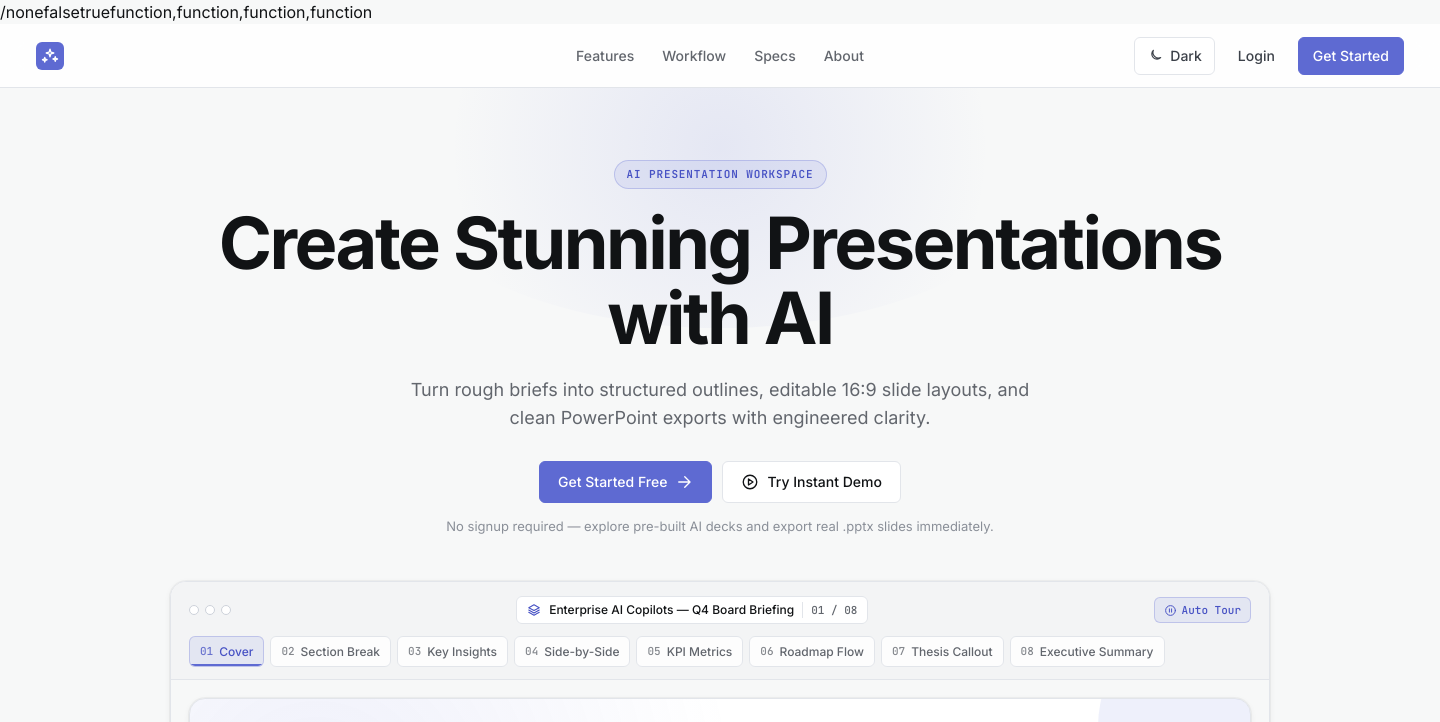
Test case: Task 3: Frontend AuthContext, Hybrid Browser Demo Fallback & Client PPTX Export › does not wipe active Browser Demo session when an earlier hanging /auth/me settles with 401 or error after clicking Try Instant Demo
// Click "Try Instant Demo" while initial /auth/me from stale token is still in-flight
Click the button "Try Instant Demo": {"x": 812, "y": 482} [722, 461, 901, 503]
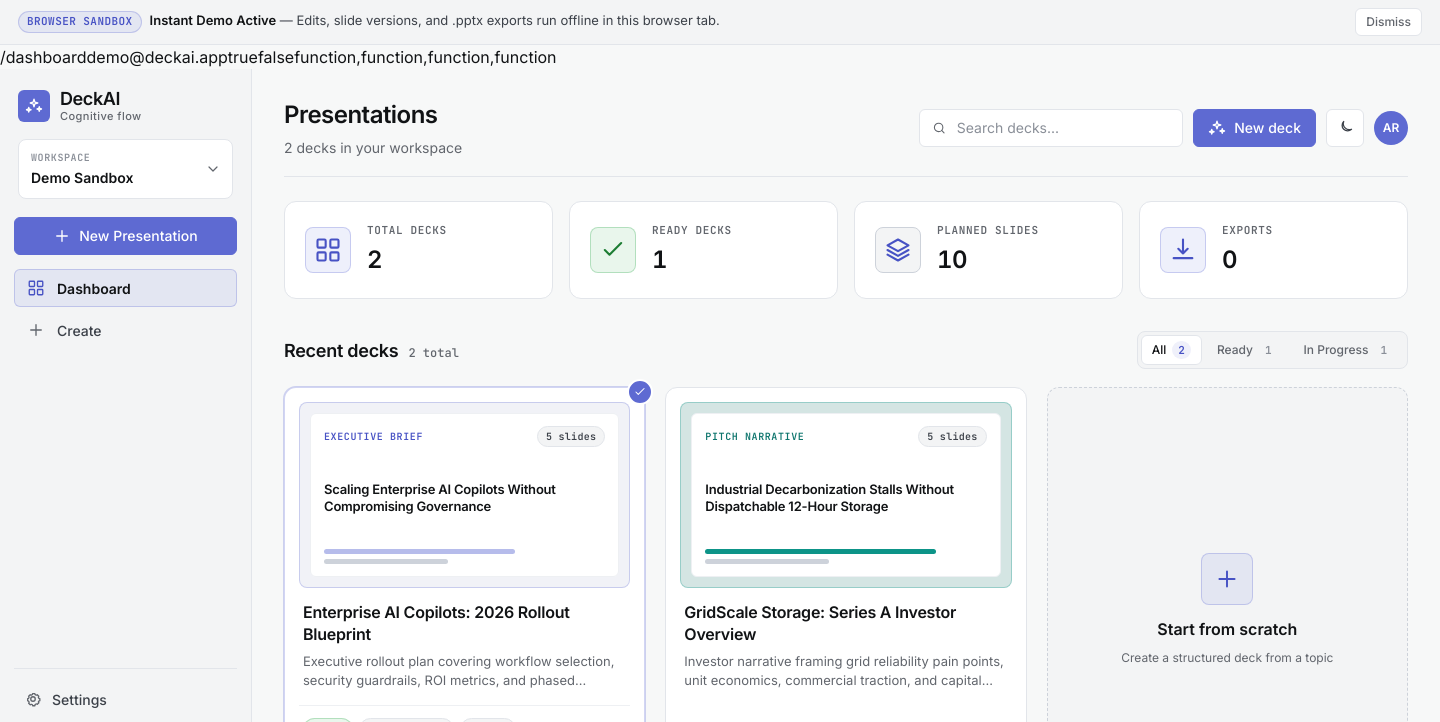
expect the text with test id "probe-path" reads "/dashboard": met, box [0, 47, 86, 67]
expect the text with test id "probe-demo" reads "true": met, box [228, 47, 258, 67]
expect the text with test id "probe-user" reads "demo@deckai.app": met, box [86, 47, 228, 67]
